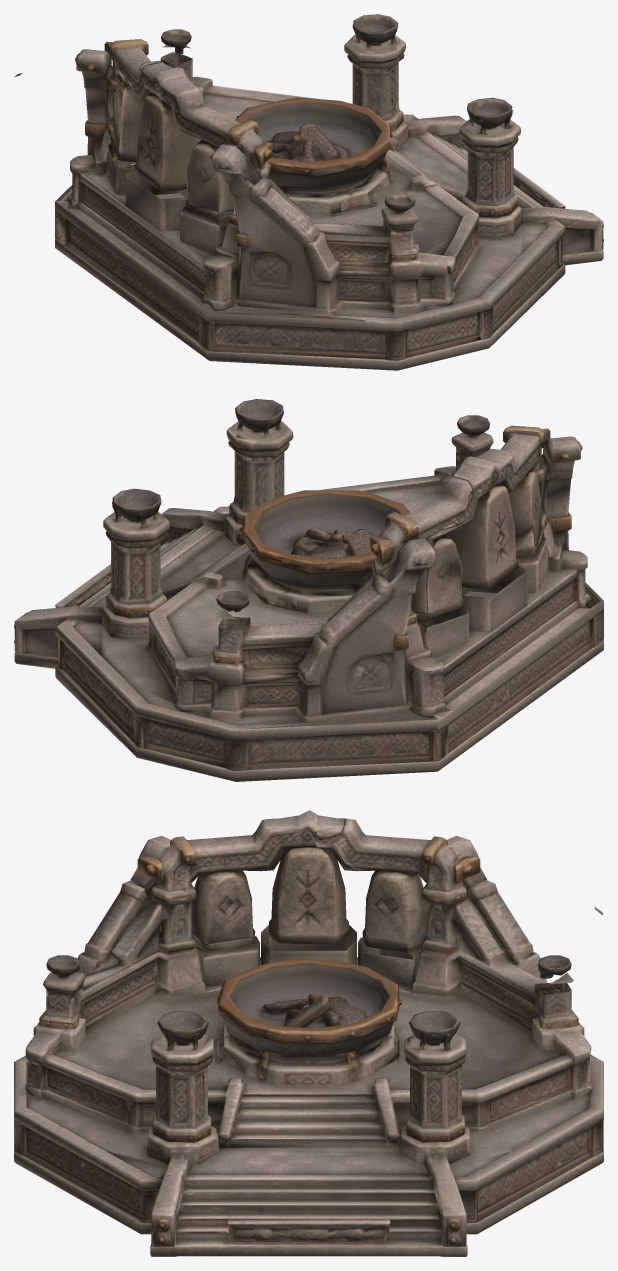
The model's file is ocak-sv30.glb.
3 views of the same model, one above another, from view 1: azimuth 30°, elevation 25°; view 2: azimuth 150°, elevation 25°; view 3: azimuth 270°, elevation 25° (orthographic). The views are drawn at different scales.
Parts seen in each view (by area): view 1: tripo_node_3e371cd2-89b6-40aa-be14-0a1cd78dff94; view 2: tripo_node_3e371cd2-89b6-40aa-be14-0a1cd78dff94; view 3: tripo_node_3e371cd2-89b6-40aa-be14-0a1cd78dff94.
Part boxes in pixels (x1=…): tripo_node_3e371cd2-89b6-40aa-be14-0a1cd78dff94: x1=14, y1=14, x2=603, y2=370; tripo_node_3e371cd2-89b6-40aa-be14-0a1cd78dff94: x1=14, y1=399, x2=603, y2=781; tripo_node_3e371cd2-89b6-40aa-be14-0a1cd78dff94: x1=14, y1=810, x2=603, y2=1256.
Bounding box in the file's own units: 0.8708 × 0.4658 × 1.
1 material, 1 textured.
